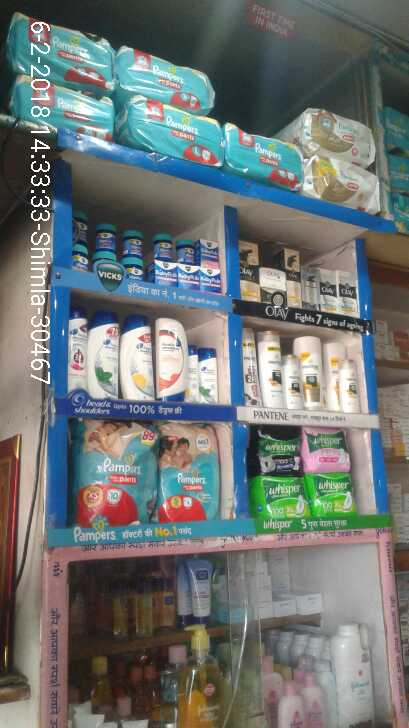beauty: (87, 314, 122, 397), (155, 315, 188, 397), (124, 309, 154, 399), (65, 305, 85, 395), (193, 348, 220, 397)
pharmacy: (73, 415, 159, 525), (76, 225, 221, 289), (112, 46, 224, 109), (157, 417, 221, 527), (133, 94, 224, 167), (226, 126, 301, 192), (46, 25, 114, 89), (249, 475, 306, 520), (299, 475, 357, 519), (254, 428, 301, 476), (300, 425, 349, 471)
